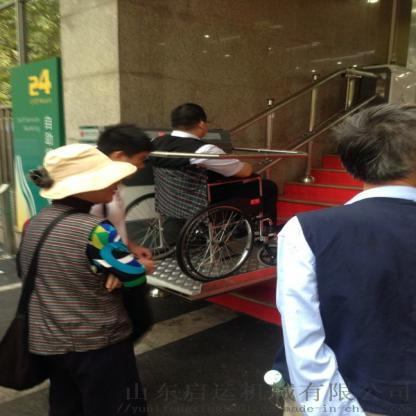wheelchair: (120, 101, 290, 280)
